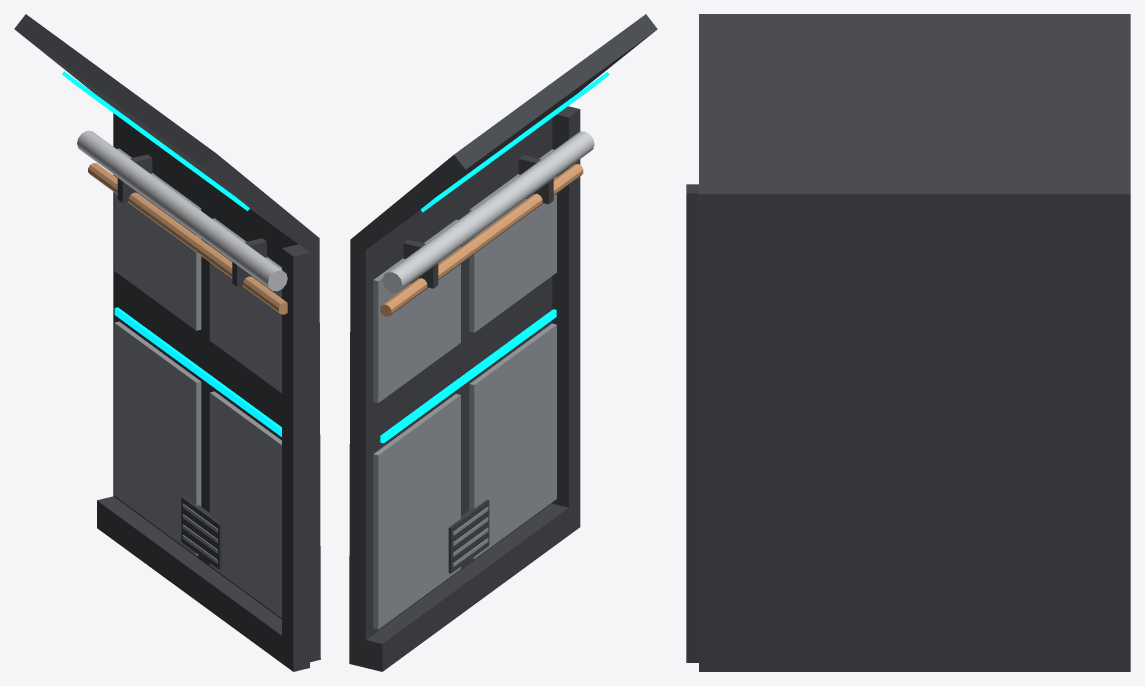
Rendered from FV_Corridor_Wall_2m.fbx.
3 views of the same model, side by side, from view 1: azimuth 30°, elevation 25°; view 2: azimuth 150°, elevation 25°; view 3: azimuth 270°, elevation 25° (orthographic). The views are drawn at different scales.
Visible parts, largest first — view 1: Corridor_Wall_2m; view 2: Corridor_Wall_2m; view 3: Corridor_Wall_2m.
Part boxes in pixels (bbox=[...]): Corridor_Wall_2m: bbox=[14, 14, 320, 671]; Corridor_Wall_2m: bbox=[349, 14, 657, 671]; Corridor_Wall_2m: bbox=[686, 14, 1130, 671].
Bounding box in the file's own units: 0.7 × 3.07 × 2.06.
